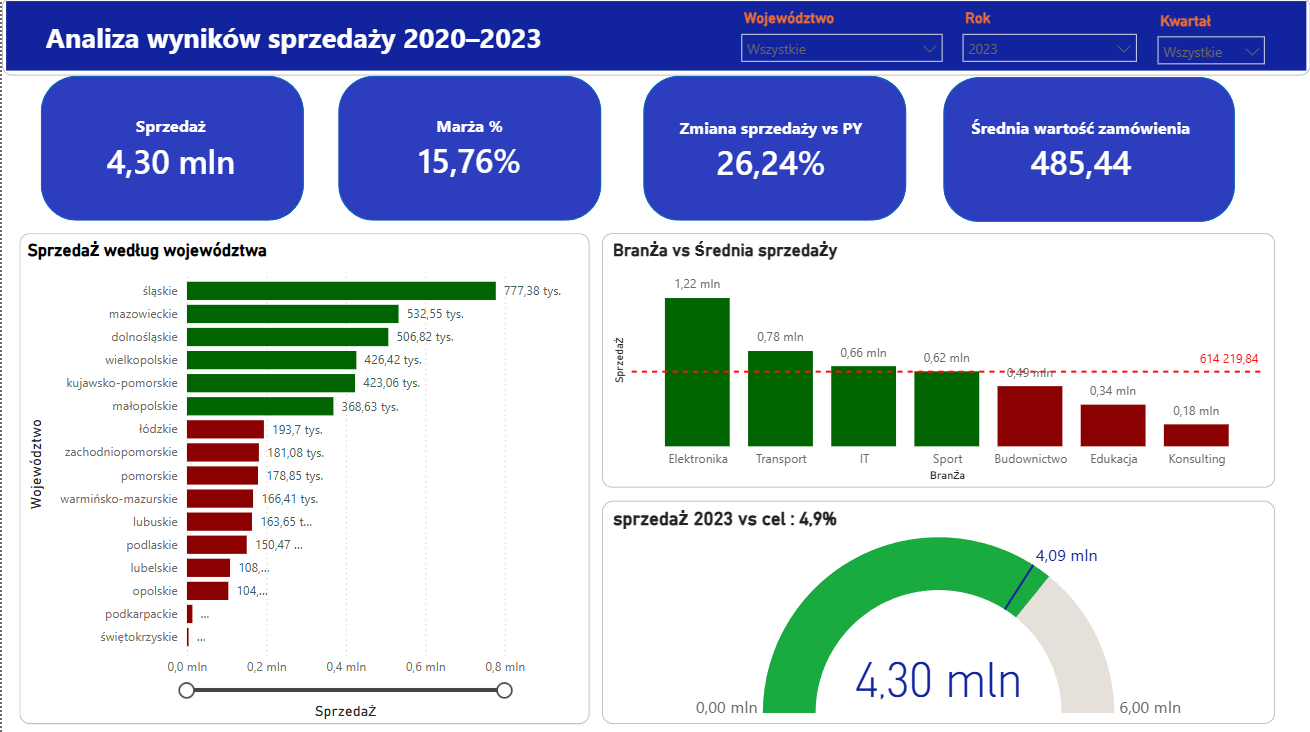

Layout of this report page (visuals, bound fields, positions):
{"tool":"powerbi","page":{"name":"Sales Intelligence Dashboard","canvas":[1280,720],"ordinal":0},"visuals":[{"type":"shape","box":[0,0,1280,76.5],"z":0},{"type":"shape","box":[329.2,76.5,257.4,141.9],"z":0,"group":"g2"},{"type":"shape","box":[626.9,76.5,257.4,141.9],"z":0,"group":"g3"},{"type":"shape","box":[919.9,78,285.3,141.9],"z":0,"group":"g4"},{"type":"group","id":"g1","title":"Grupa 1","box":[37.6,76.5,257.4,141.9],"z":1000},{"type":"shape","box":[37.6,76.5,257.4,141.9],"z":1000,"group":"g1"},{"type":"cardVisual","fields":{"Data":["_Miary.Średnia wartość zamówienia"]},"box":[884.9,76.5,340.9,144.7],"z":1000,"group":"g4"},{"type":"cardVisual","fields":{"Data":["_Miary.Zmiana sprzedaży vs PY"]},"box":[620.8,78.9,263,139.1],"z":1000,"group":"g3"},{"type":"cardVisual","fields":{"Data":["_Miary.Marża %"]},"box":[354.2,88.7,208.7,116.9],"z":1000,"group":"g2"},{"type":"group","id":"g2","title":"Grupa 2","box":[329.2,76.5,257.4,141.9],"z":2000},{"type":"group","id":"g3","title":"Grupa 3","box":[620.8,76.5,263,141.9],"z":3000},{"type":"group","id":"g4","title":"Grupa 4","box":[884.9,76.5,340.9,144.7],"z":4000},{"type":"cardVisual","fields":{"Data":["_Miary.Sprzedaż"]},"box":[47.3,86.2,235.1,122.4],"z":5000,"group":"g1"},{"type":"clusteredColumnChart","title":"Branża vs średnia sprzedaży","fields":{"Category":["Klient.Branża"],"Y":["_Miary.Sprzedaż"]},"box":[587.1,231,658.1,249],"z":5000},{"type":"barChart","title":"Sprzedaż według województwa","fields":{"Category":["Miasta.Województwo"],"Y":["_Miary.Sprzedaż"]},"box":[16.7,231,557.9,480],"z":6000},{"type":"slicer","fields":{"Values":["Kalendarz.Rok"]},"box":[929.4,7,190.6,65.4],"z":7000},{"type":"slicer","fields":{"Values":["Kalendarz.Kwartał"]},"box":[1120,9.7,125.2,58.4],"z":8000},{"type":"slicer","fields":{"Values":["Miasta.Województwo"]},"box":[712.3,7,217,65.4],"z":9000},{"type":"gauge","fields":{"Y":["_Miary.Sprzedaż"],"TargetValue":["_Miary.Cel sprzedaży rok"]},"box":[587.1,492.5,658.1,218.4],"z":10000},{"type":"textbox","box":[37.6,15.3,506.4,47.3],"z":11000}]}

Visuals, with their boxes in screenshot pixels (x1, y1, x2, y2), scaled from the page's 1280x720 canvas onto the 1310x732 screenshot:
shape: 0,0,1309,78
shape: 337,78,600,222
shape: 642,78,905,222
shape: 941,79,1233,224
"Grupa 1" group: 38,78,302,222
shape: 38,78,302,222
cardVisual - _Miary.Średnia wartość zamówienia: 906,78,1255,225
cardVisual - _Miary.Zmiana sprzedaży vs PY: 635,80,905,222
cardVisual - _Miary.Marża %: 363,90,576,209
"Grupa 2" group: 337,78,600,222
"Grupa 3" group: 635,78,905,222
"Grupa 4" group: 906,78,1255,225
cardVisual - _Miary.Sprzedaż: 48,88,289,212
"Branża vs średnia sprzedaży" clusteredColumnChart: 601,235,1274,488
"Sprzedaż według województwa" barChart: 17,235,588,723
slicer - Kalendarz.Rok: 951,7,1146,74
slicer - Kalendarz.Kwartał: 1146,10,1274,69
slicer - Miasta.Województwo: 729,7,951,74
gauge - _Miary.Sprzedaż x _Miary.Cel sprzedaży rok: 601,501,1274,723
textbox: 38,16,557,64
